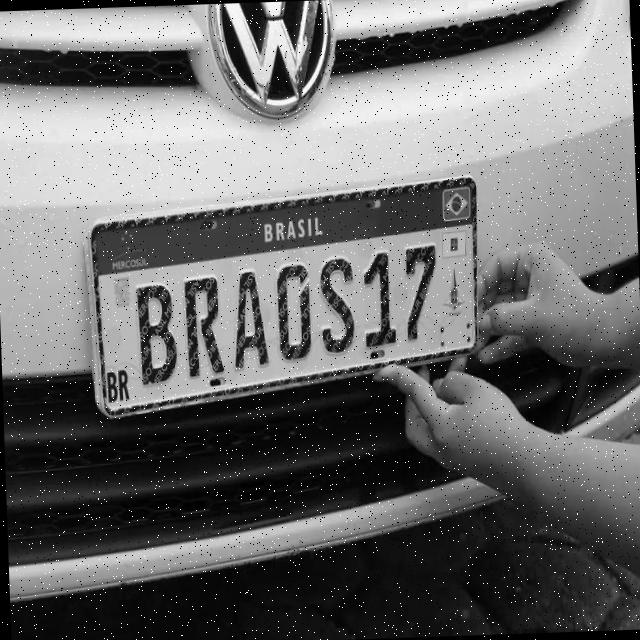placa_mercosul: (96, 174, 478, 417)
